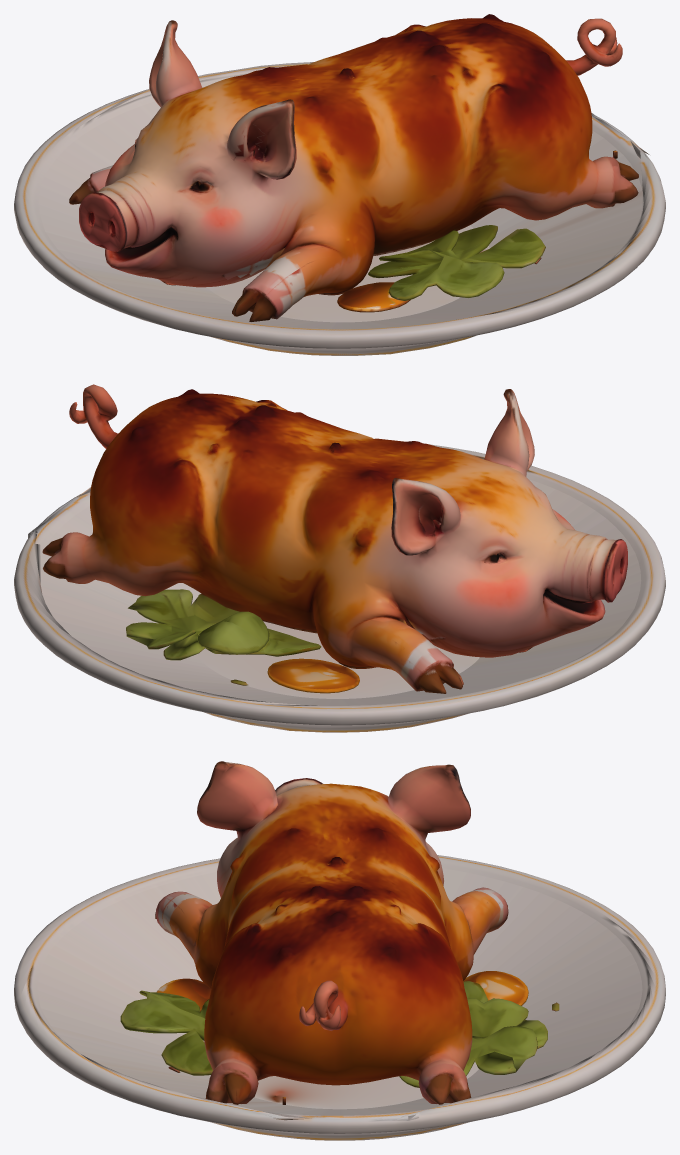
The model's file is KaoRuZhu_02_1215_02.FBX.
3 renders of one model, top to bottom at view 1: azimuth 30°, elevation 25°; view 2: azimuth 150°, elevation 25°; view 3: azimuth 270°, elevation 25°, orthographic.
Visible parts, largest first — view 1: material; view 2: material; view 3: material.
Boxes of the visible parts, left/top/right/bottom form: material: left=14, top=14, right=665, bottom=355; material: left=14, top=384, right=665, bottom=732; material: left=14, top=761, right=665, bottom=1140.
Size of the model in its own units: 190 by 75.57 by 190.
